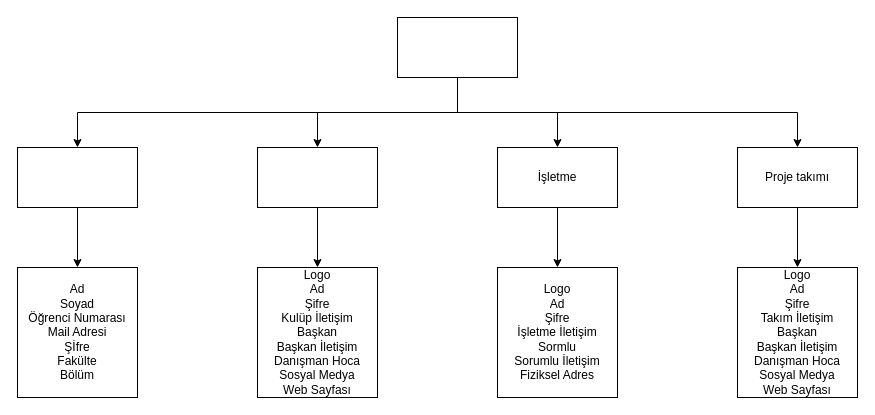
Image size: 875x415. Some labels were removed from this diagram. The shapes that lost their labels are listed below. From the top down, each one's box as (x1, y1, x2, y2) in pixels, then its label:
(396, 16, 518, 78): Üye Olma
(16, 146, 138, 208): Öğrenci
(256, 146, 378, 208): Kulüp
